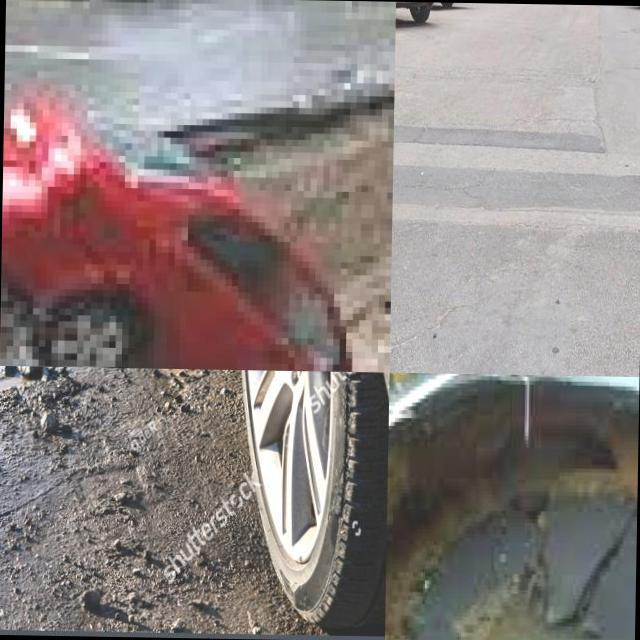Pothole: (112, 83, 394, 372), (384, 384, 639, 640)
